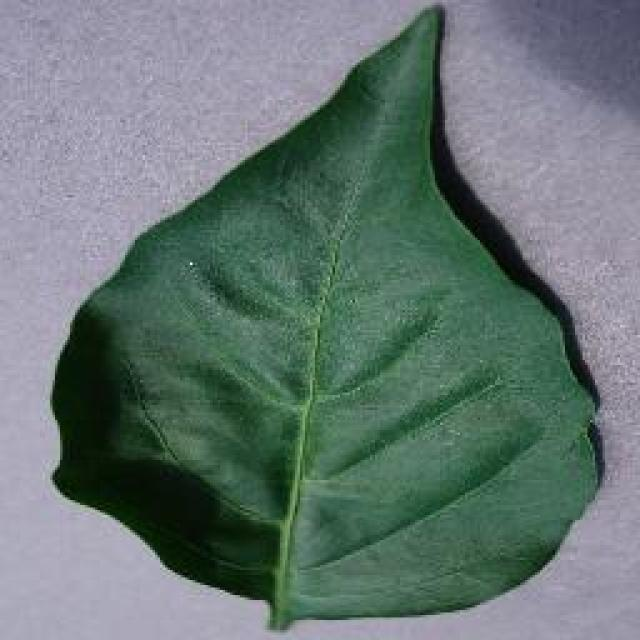Leaf: (103, 61, 558, 553)
